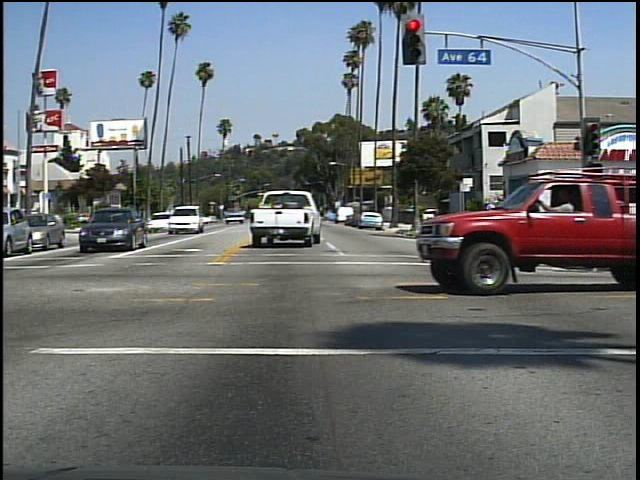person: (549, 181, 588, 297), (478, 197, 504, 236)
